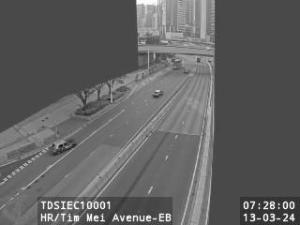bus: (174, 60, 182, 70)
truck: (196, 57, 200, 62)
vehicle: (46, 138, 76, 154), (151, 90, 163, 98), (184, 69, 188, 73)
